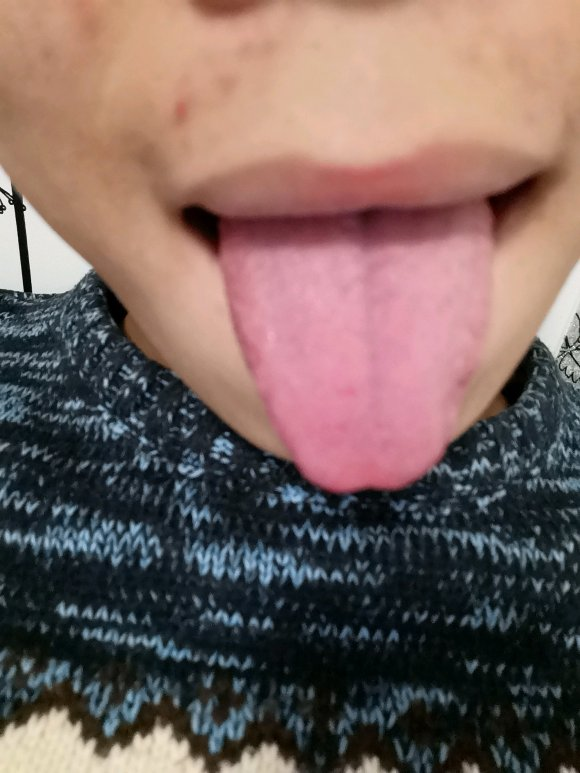hongshe: (220, 199, 495, 493)
